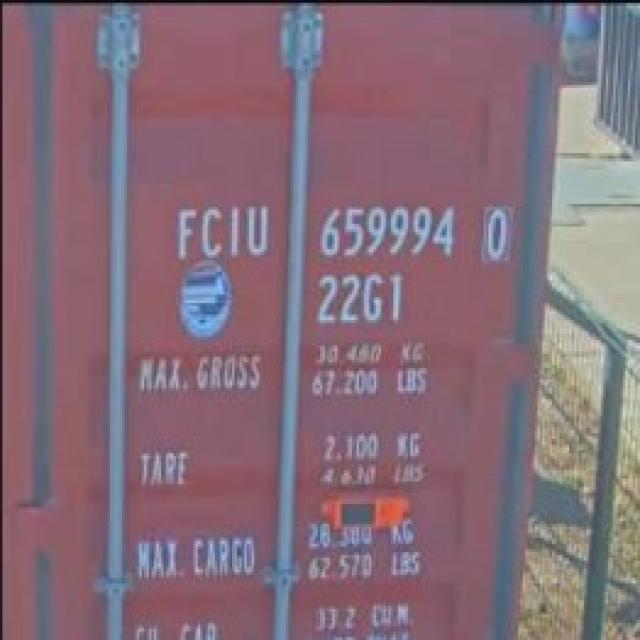dv: (482, 200, 513, 266)
owner: (167, 198, 278, 262)
serial: (312, 200, 466, 260)
size: (310, 266, 412, 330)
